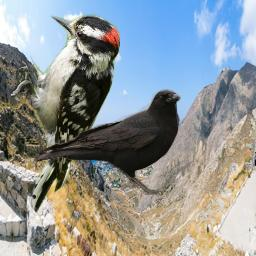Crow: (33, 89, 181, 195)
Woodpecker: (11, 11, 120, 213)
